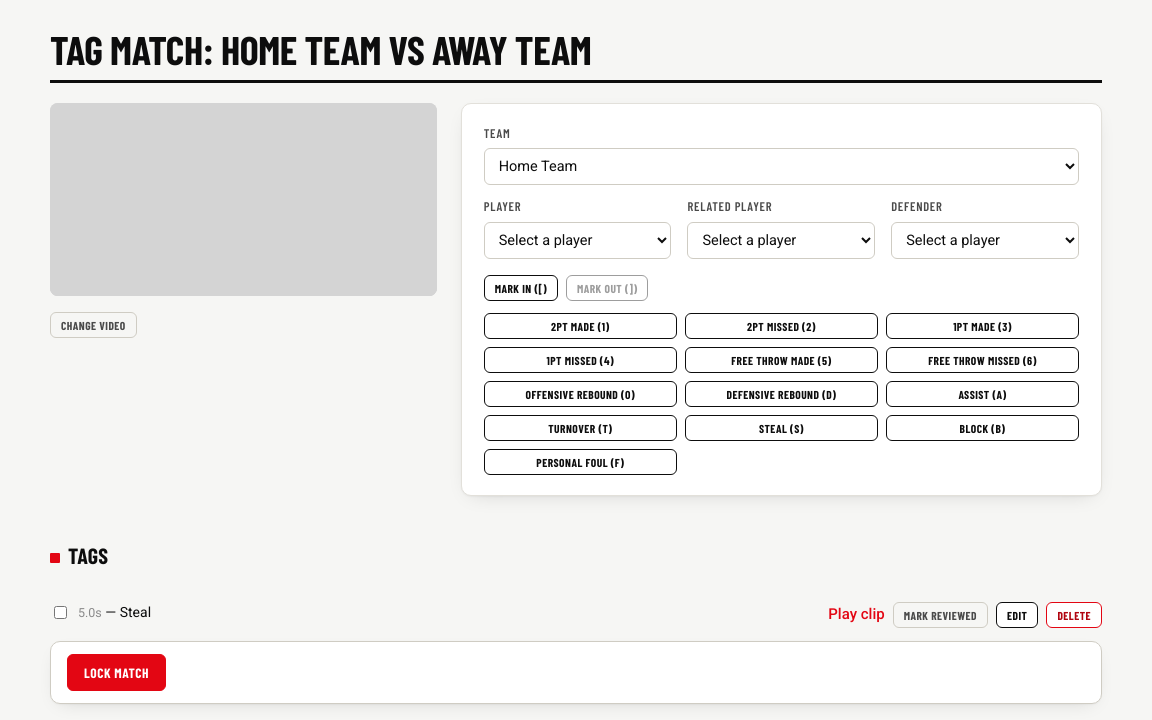
TaggingPage — tag review (Admin QA) › lets an Admin mark a tag reviewed, and shows the Reviewed badge once it is
Expected: the button "Steal (s)" is shown, [685, 415, 878, 441]
Click the button "Mark reviewed" at (940,615), box [893, 602, 988, 628]
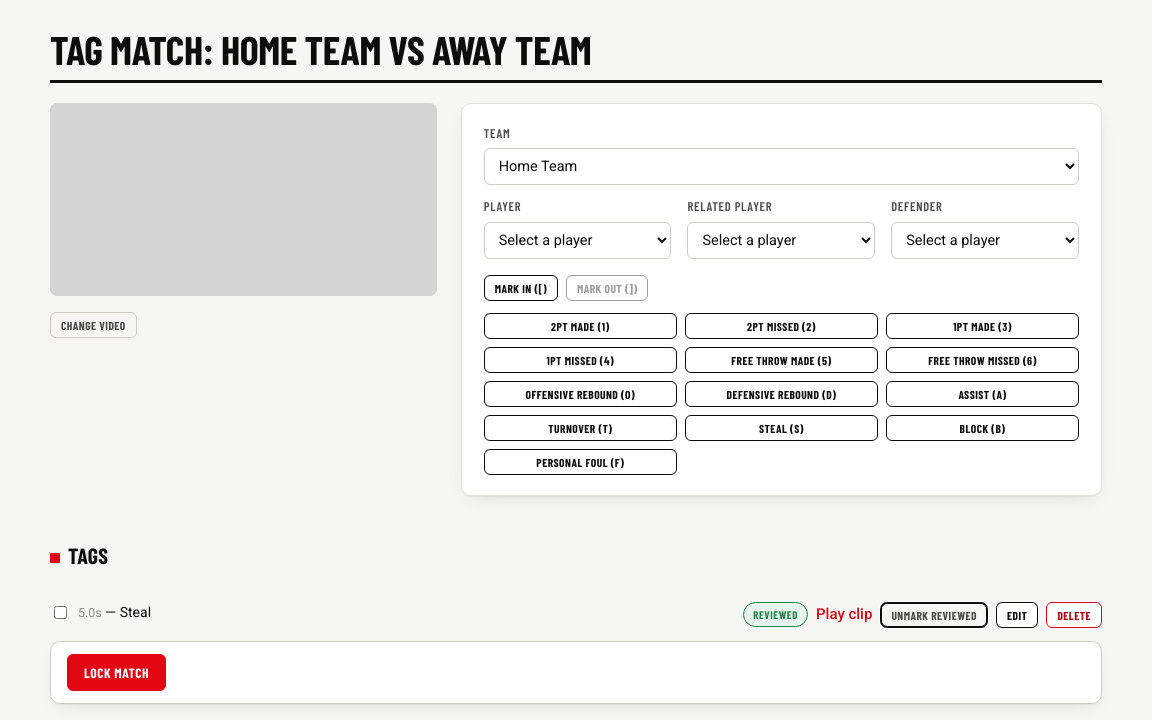
Now the text "Reviewed" is shown, box [743, 602, 808, 627]
Now the button "Unmark reviewed" is shown, box [880, 602, 988, 628]
